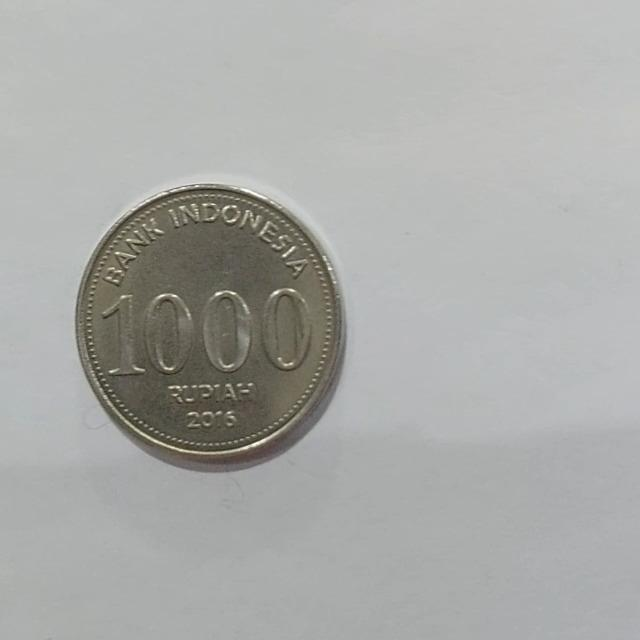Rp100: (73, 180, 346, 472)
